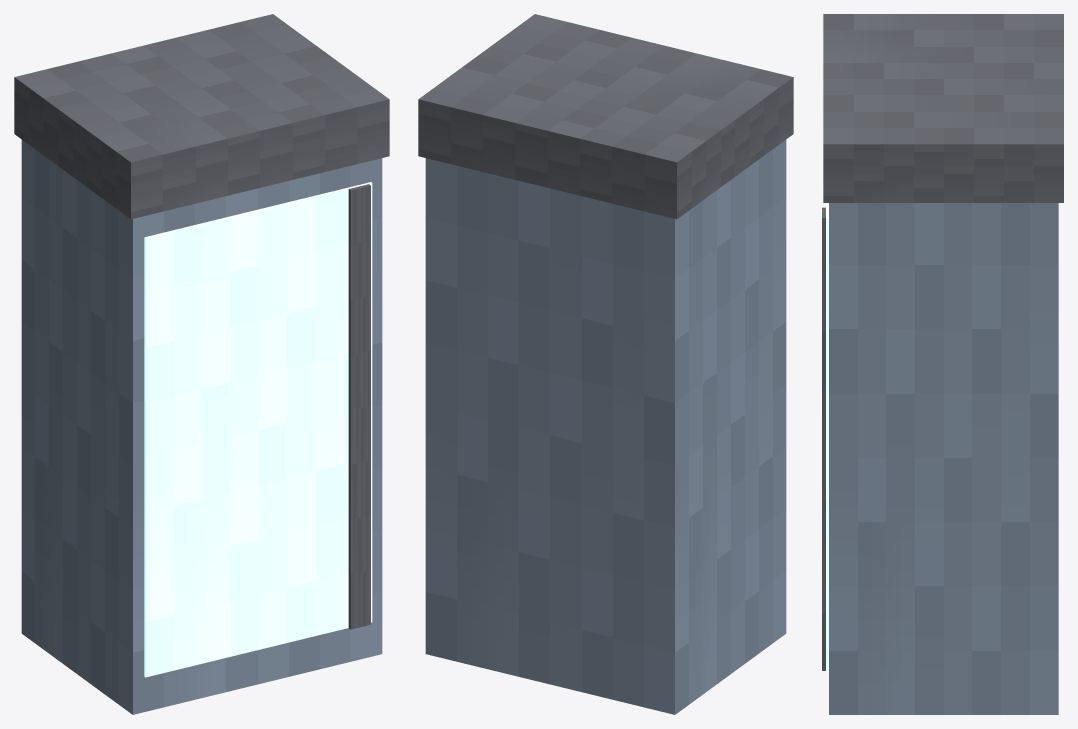
Rendered from upright-freezer.glb.
3 renders of one model, left to right at view 1: azimuth 30°, elevation 25°; view 2: azimuth 150°, elevation 25°; view 3: azimuth 270°, elevation 25°, orthographic. The views are drawn at different scales.
Visible parts, largest first — view 1: upright-freezer-pizzas, door/cyan, door/charcoal; view 2: upright-freezer-pizzas; view 3: upright-freezer-pizzas, door/charcoal, door/cyan.
Boxes of the visible parts, x1,y1,x2,y2 form: upright-freezer-pizzas: [14, 14, 389, 714]; door/cyan: [144, 182, 372, 677]; door/charcoal: [348, 184, 370, 629]; upright-freezer-pizzas: [418, 14, 793, 714]; upright-freezer-pizzas: [823, 14, 1063, 714]; door/charcoal: [822, 207, 825, 670]; door/cyan: [826, 203, 828, 672].
Size of the model in its own units: 1.14 by 2.34 by 0.895.
Materials: 6 (6 with a texture image).
